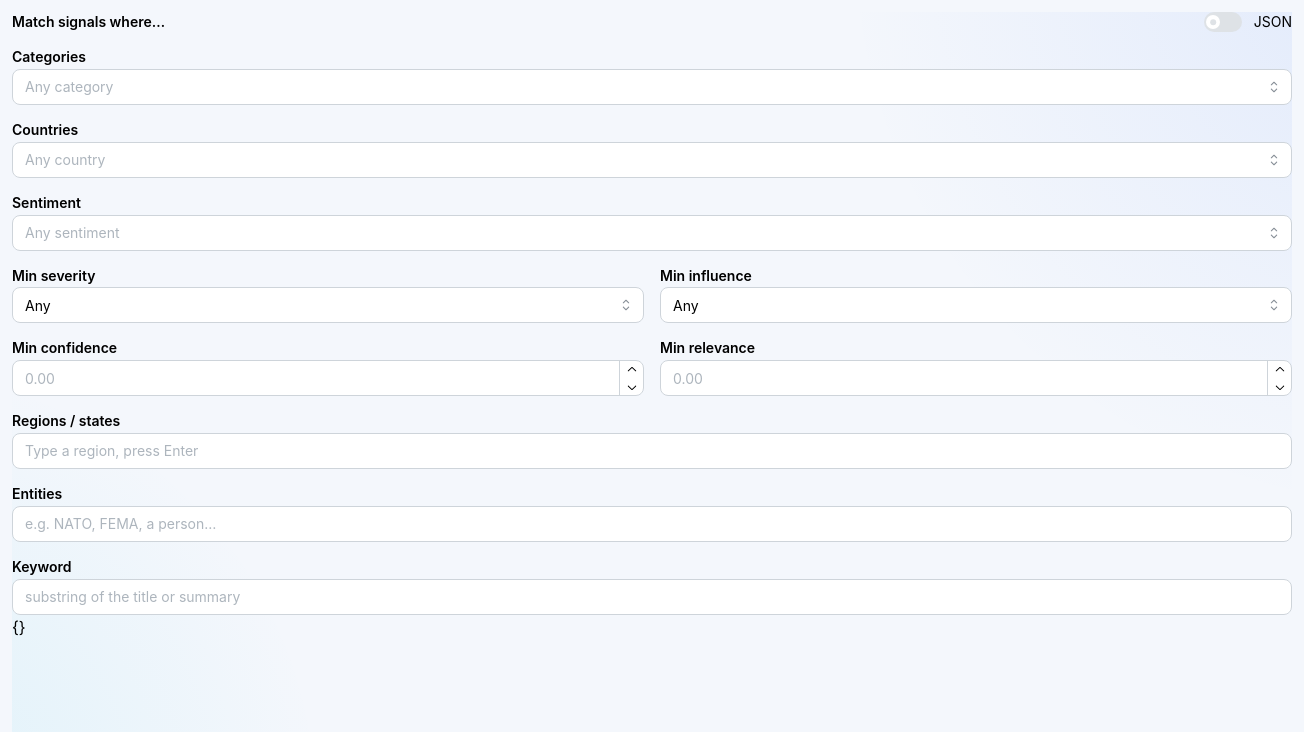
Test: FilterBuilder › edits the keyword
Type "quake" into the field with test id "filter-keyword" at (652, 597), box [12,579,1292,615]
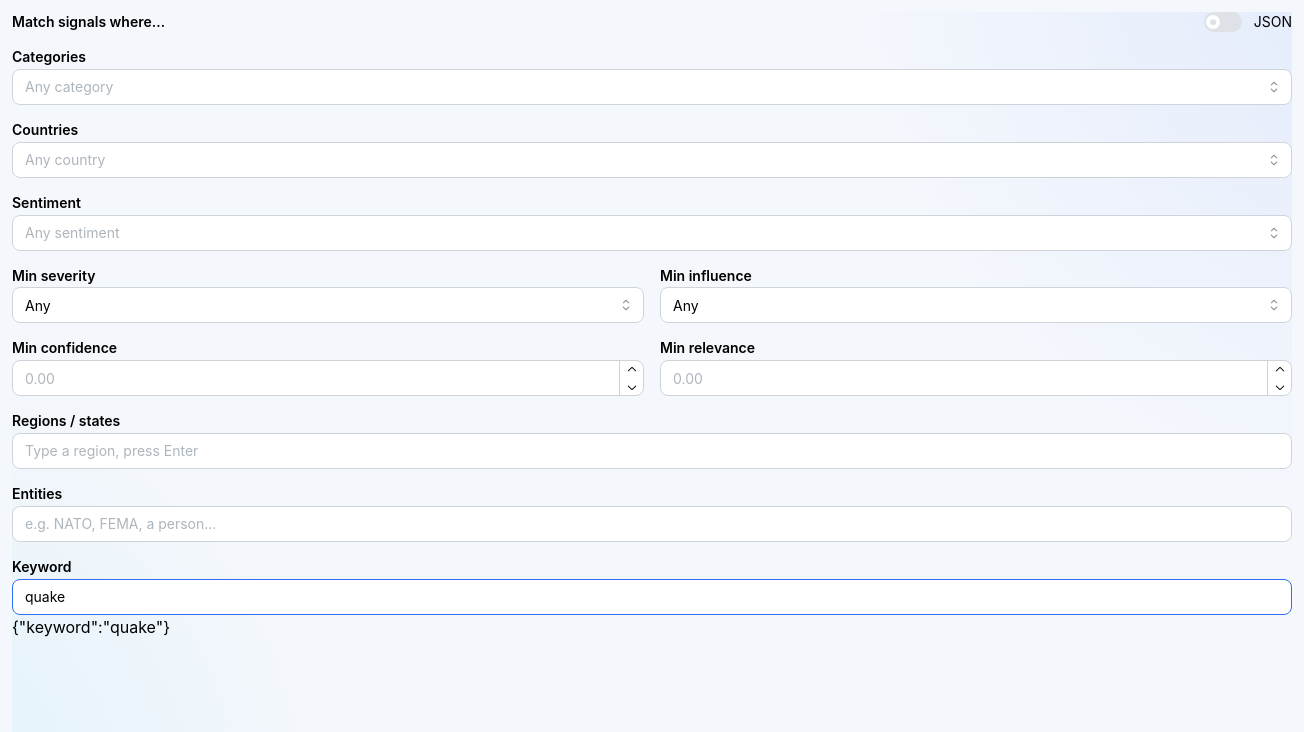
Expected: the text with test id "state" shows "\"keyword\":\"quake\"", [12,617,170,637]
